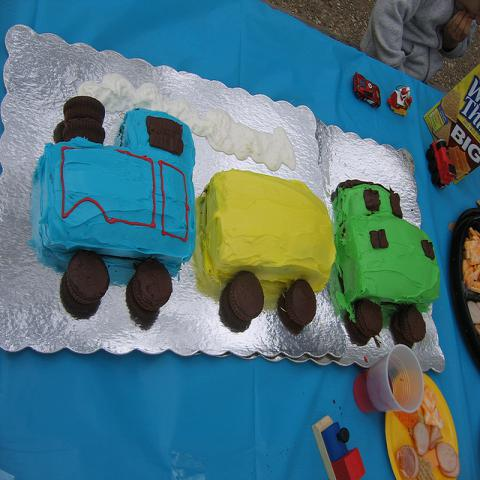car: (353, 72, 381, 110)
